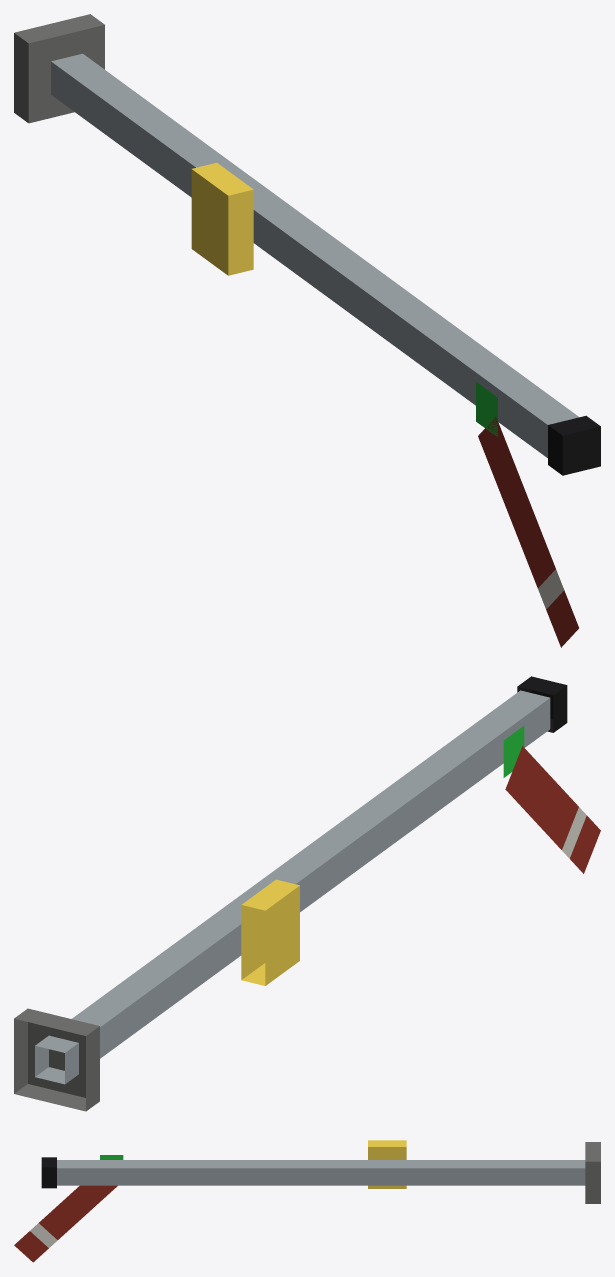
File: green.glb
3 renders of one model, top to bottom at view 1: azimuth 30°, elevation 25°; view 2: azimuth 150°, elevation 25°; view 3: azimuth 270°, elevation 25°, orthographic. The views are drawn at different scales.
Visible parts, largest first — view 1: signal_semaphore_entry_green; view 2: signal_semaphore_entry_green; view 3: signal_semaphore_entry_green.
Boxes of the visible parts, <box> form: signal_semaphore_entry_green: <box>14,14,600,647</box>; signal_semaphore_entry_green: <box>14,676,600,1111</box>; signal_semaphore_entry_green: <box>14,1140,600,1262</box>.
Size of the model in its own units: 1.3 by 3.36 by 15.11.
